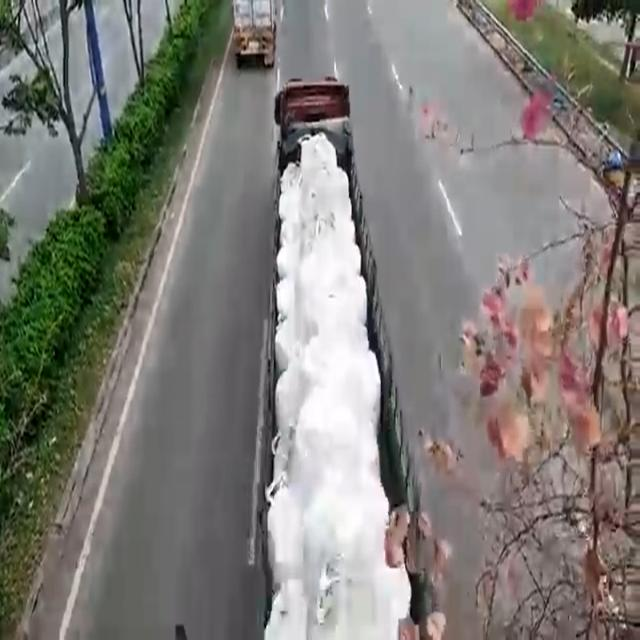truck: (271, 79, 414, 640)
